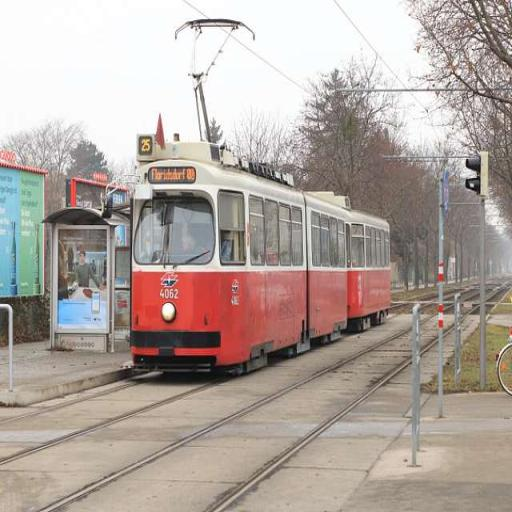E2-Tram: (127, 112, 395, 397)
